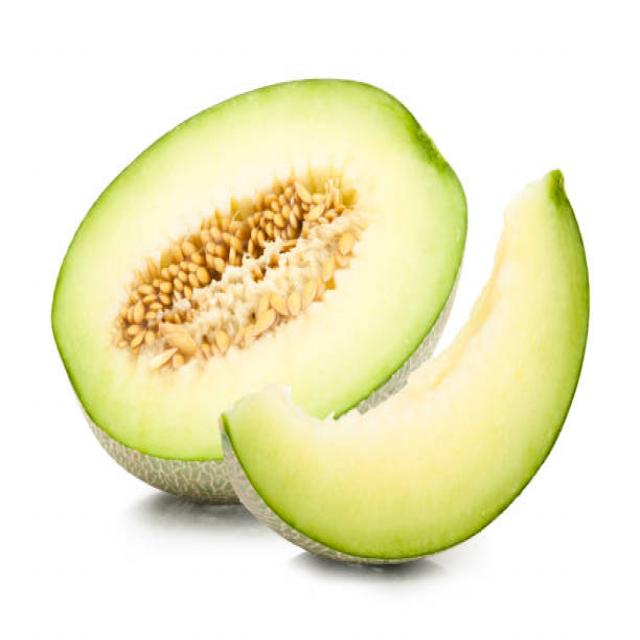Melon: (48, 70, 463, 400), (409, 164, 593, 556)
